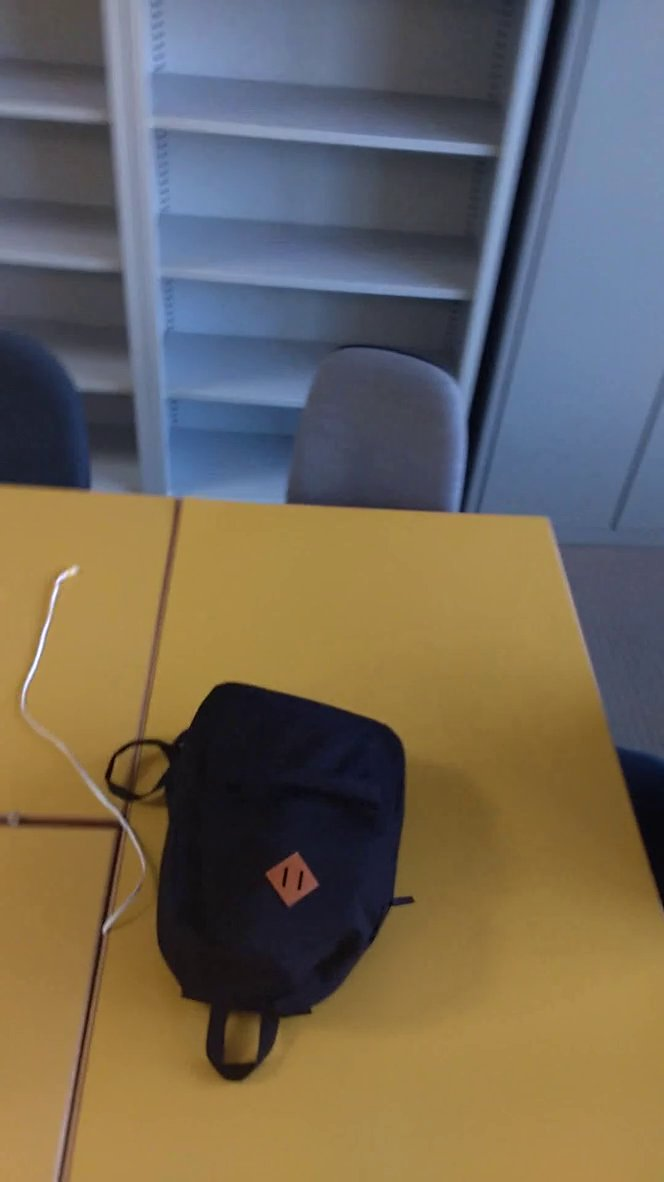bag: (106, 676, 424, 1089)
chair: (270, 324, 476, 547)
